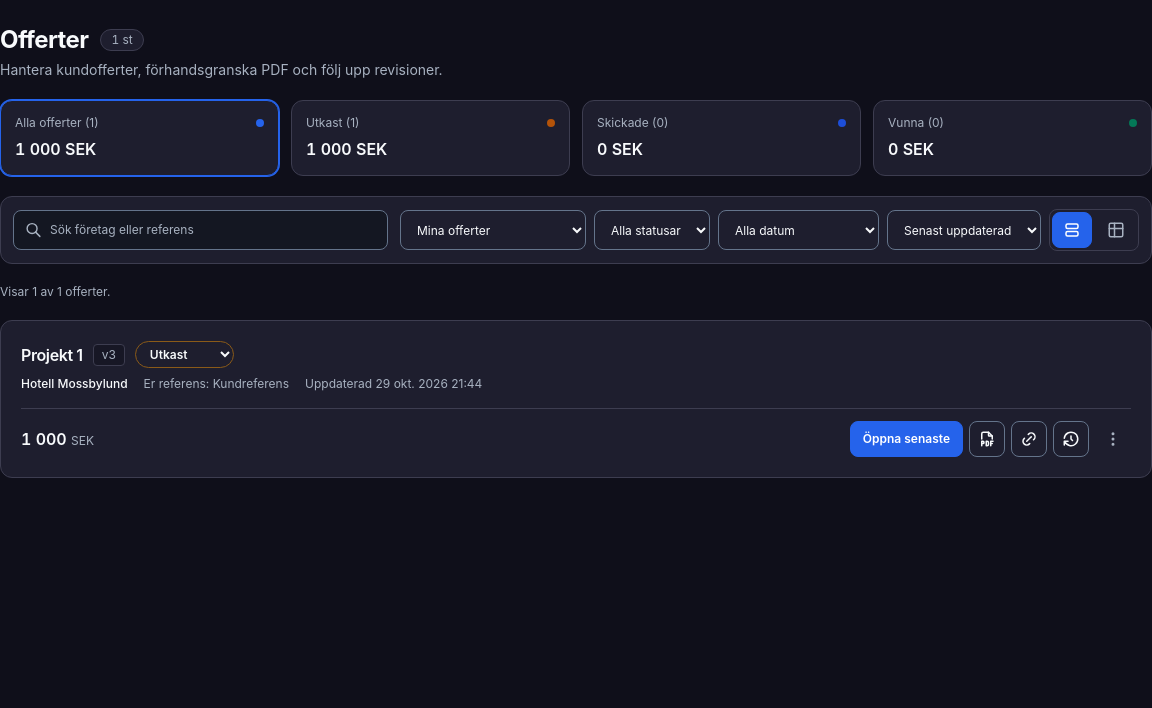
it: Offerter redesign › disables only the pending owner row and prevents repeat status writes
Select "Alla användare" in the dropdown named "Offertägare" at (493, 230), box [400,210,586,250]
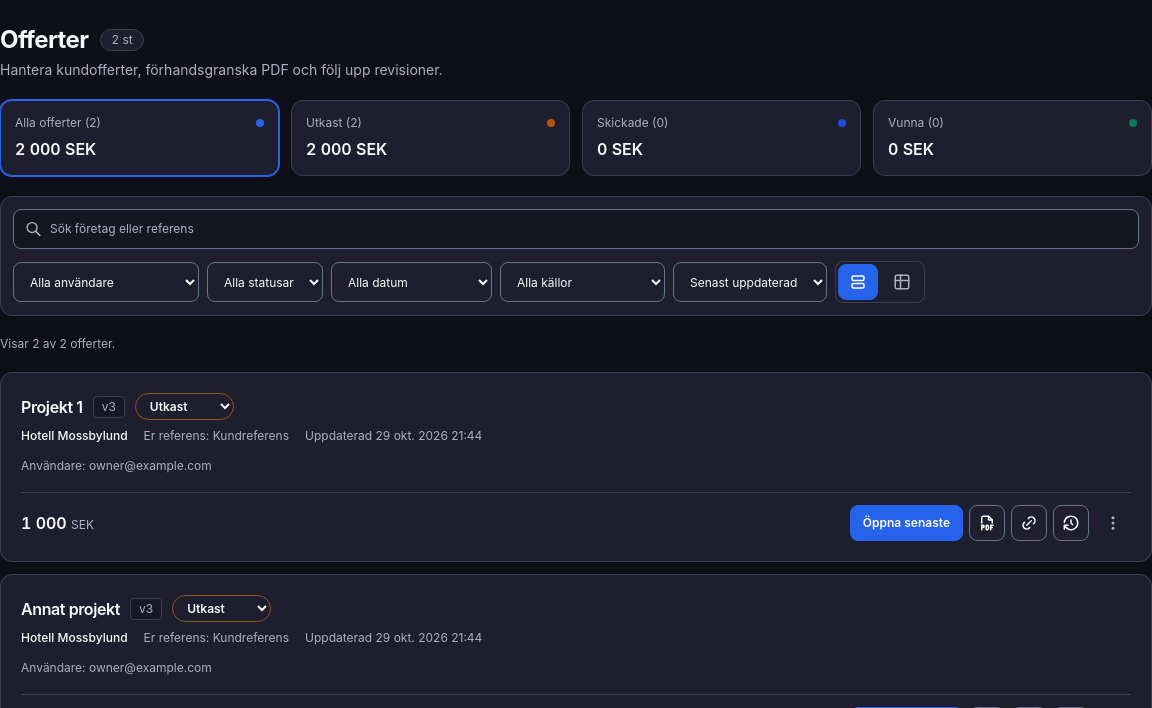
Select "Skickad" in the dropdown named "Status för Projekt 1" at (184, 406), box [135,393,234,420]
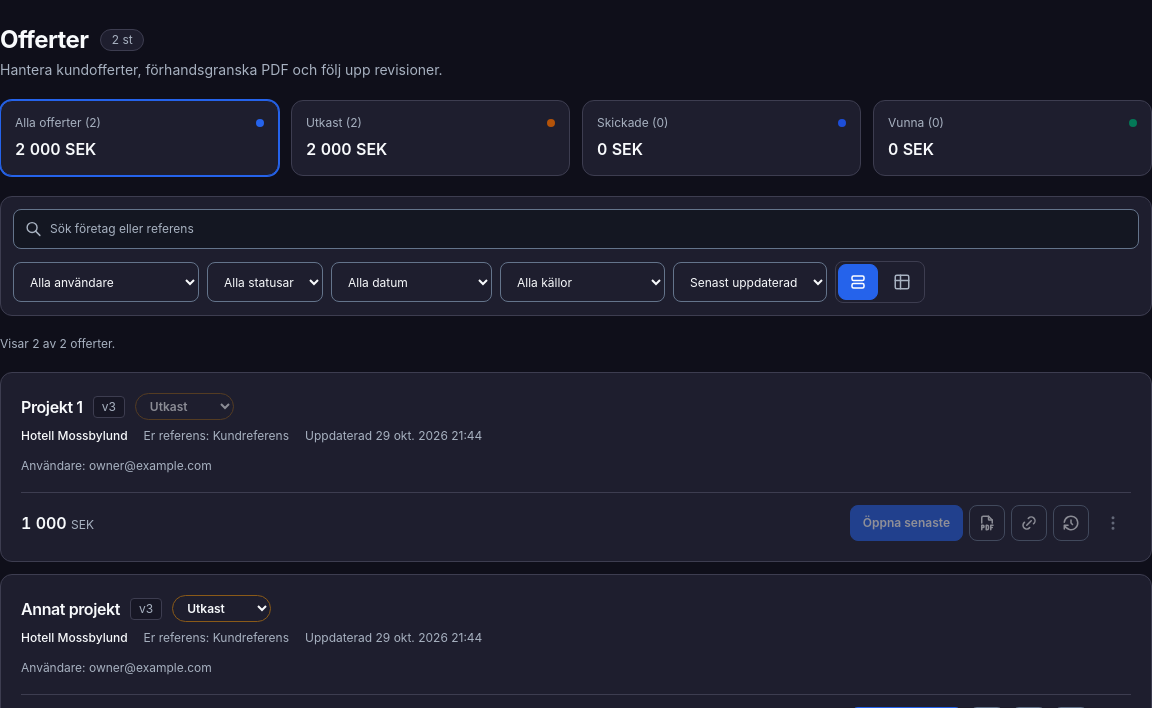
Now the dropdown named "Status för Annat projekt" is enabled, box [172,595,271,622]
Now the dropdown named "Status för Projekt 1" is disabled
Select "Vunnen" in the dropdown named "Status för Projekt 1" at (184, 406), box [135,393,234,420]
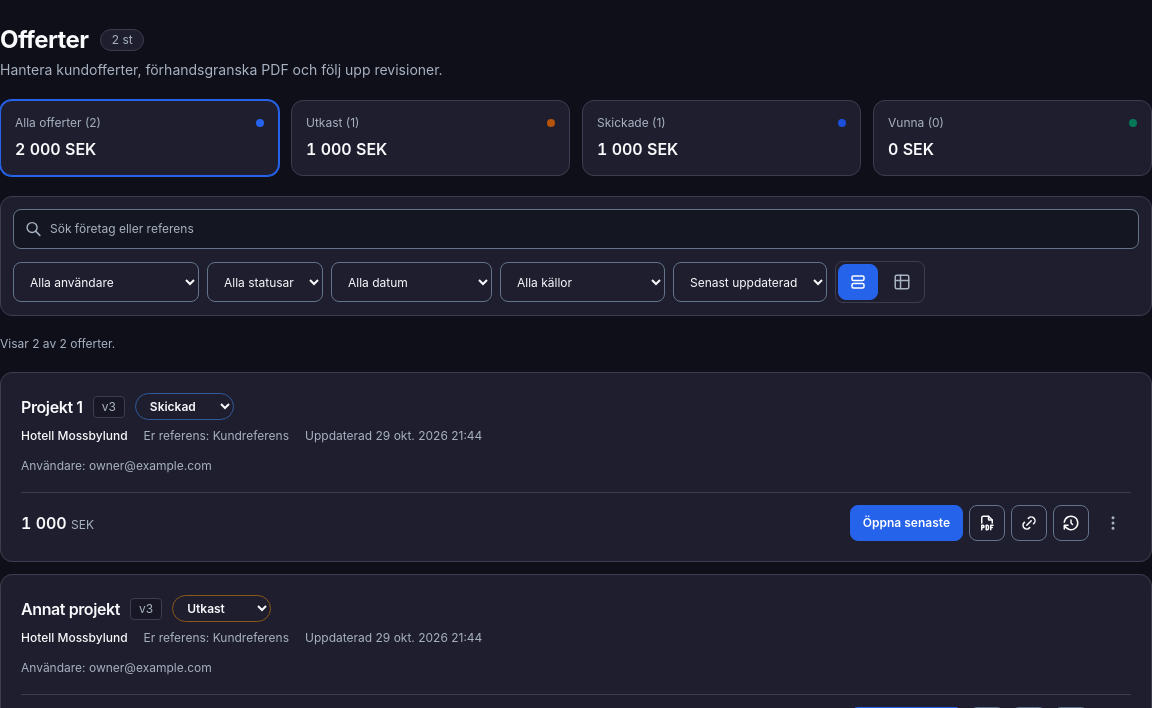
Now the dropdown named "Status för Projekt 1" is enabled, box [135,393,234,420]
